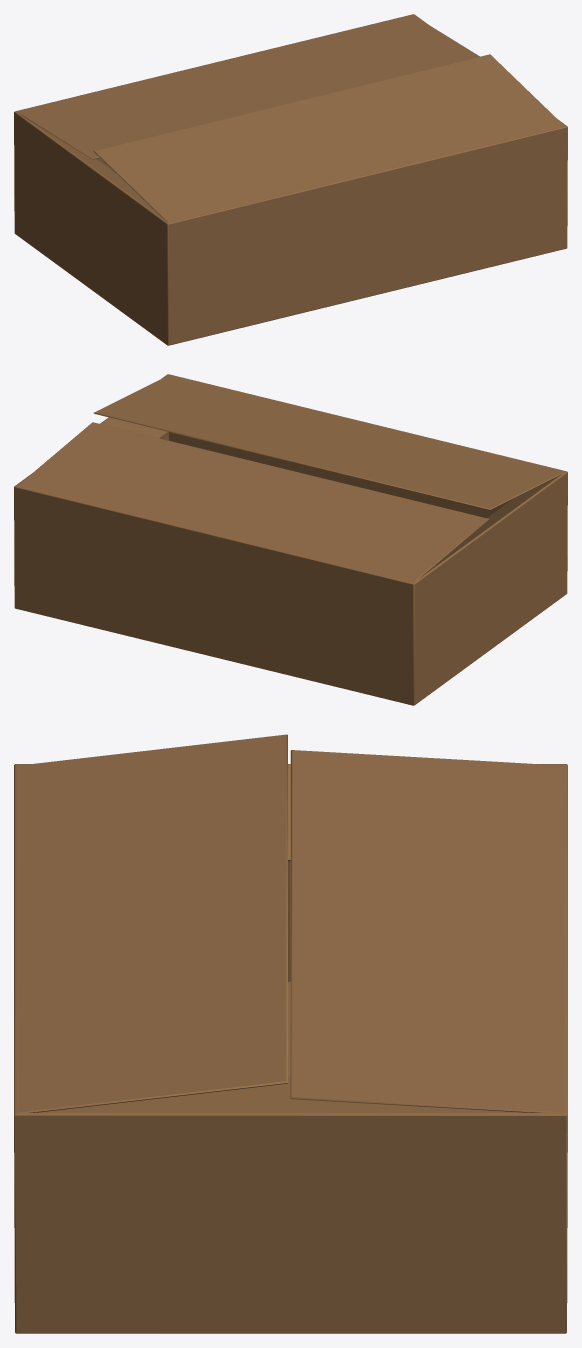
The model's file is Prop_LargeBox.FBX.
3 renders of one model, top to bottom at view 1: azimuth 30°, elevation 25°; view 2: azimuth 150°, elevation 25°; view 3: azimuth 270°, elevation 25°, orthographic. The views are drawn at different scales.
Visible parts, largest first — view 1: Baytek_PlayerRoom_Set03_LargeBox; view 2: Baytek_PlayerRoom_Set03_LargeBox; view 3: Baytek_PlayerRoom_Set03_LargeBox.
Part boxes in pixels (<box>): Baytek_PlayerRoom_Set03_LargeBox: <box>14,14,567,345</box>; Baytek_PlayerRoom_Set03_LargeBox: <box>14,374,567,705</box>; Baytek_PlayerRoom_Set03_LargeBox: <box>14,734,567,1333</box>.
Bounding box in the file's own units: 67.51 × 22.49 × 45.01.
